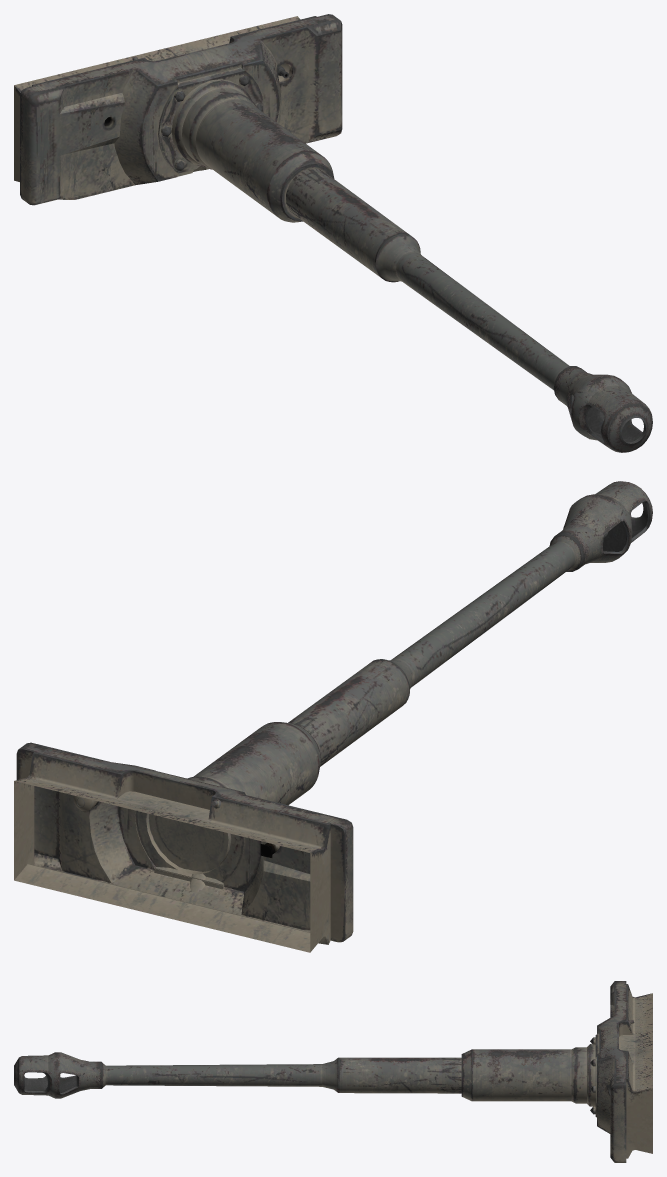
The model's file is Tiger I_Gun.fbx.
The picture shows the model from 3 angles, top to bottom: view 1: azimuth 30°, elevation 25°; view 2: azimuth 150°, elevation 25°; view 3: azimuth 270°, elevation 25°; orthographic projection. The views are drawn at different scales.
Visible parts, largest first — view 1: german\G04_PzVI_Tiger_I\normal\l\Gun_05.pri~7~9; view 2: german\G04_PzVI_Tiger_I\normal\l\Gun_05.pri~7~9; view 3: german\G04_PzVI_Tiger_I\normal\l\Gun_05.pri~7~9.
Part boxes in pixels (<box>): german\G04_PzVI_Tiger_I\normal\l\Gun_05.pri~7~9: <box>14,14,652,452</box>; german\G04_PzVI_Tiger_I\normal\l\Gun_05.pri~7~9: <box>14,481,652,952</box>; german\G04_PzVI_Tiger_I\normal\l\Gun_05.pri~7~9: <box>14,981,652,1162</box>.
Size of the model in its own units: 1.59 by 0.561 by 4.08.
1 material, 1 textured.
